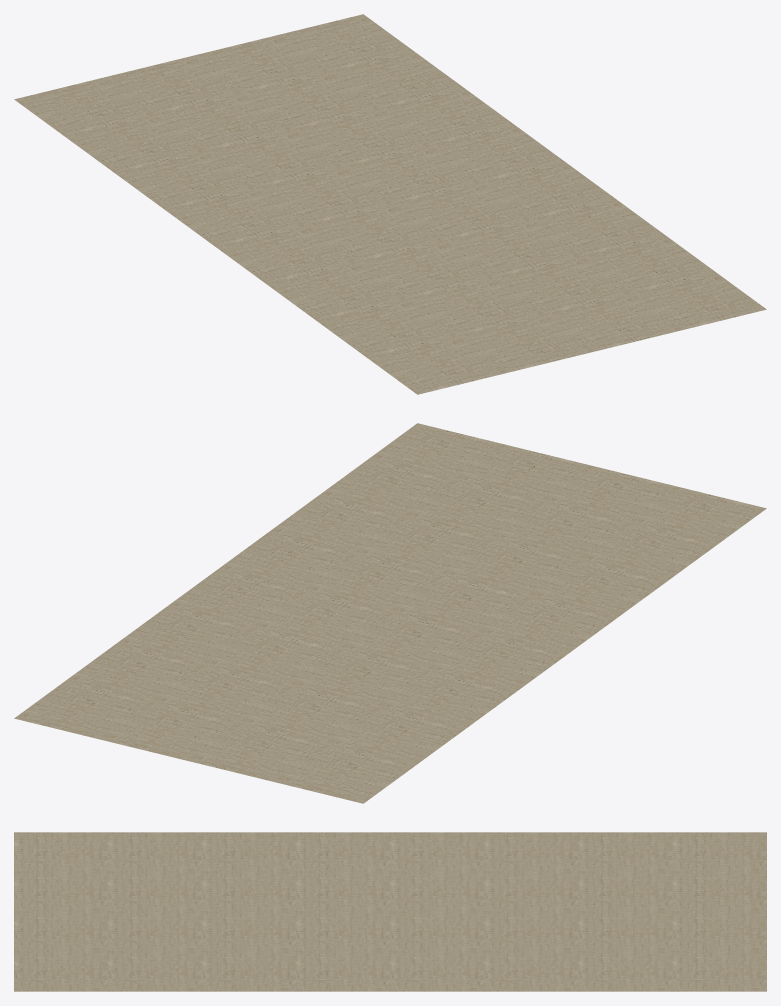
The model's file is Ground.glb.
3 views of the same model, one above another, from view 1: azimuth 30°, elevation 25°; view 2: azimuth 150°, elevation 25°; view 3: azimuth 270°, elevation 25° (orthographic). The views are drawn at different scales.
Parts seen in each view (by area): view 1: piece_of_floor_low (31), piece_of_floor_low (17), piece_of_floor_low (1), piece_of_floor_low (9), piece_of_floor_low (5), piece_of_floor_low (4), piece_of_floor_low (3), piece_of_floor_low (30), piece_of_floor_low (14), piece_of_floor_low (10), piece_of_floor_low (21), piece_of_floor_low (12) (+20 smaller); view 2: piece_of_floor_low, piece_of_floor_low (13), piece_of_floor_low (3), piece_of_floor_low (31), piece_of_floor_low (14), piece_of_floor_low (28), piece_of_floor_low (9), piece_of_floor_low (10), piece_of_floor_low (21), piece_of_floor_low (12), piece_of_floor_low (17), piece_of_floor_low (15) (+20 smaller); view 3: piece_of_floor_low (12), piece_of_floor_low (15), piece_of_floor_low (4), piece_of_floor_low (23), piece_of_floor_low (27), piece_of_floor_low (16), piece_of_floor_low (11), piece_of_floor_low (7), piece_of_floor_low (20), piece_of_floor_low (19), piece_of_floor_low (8), piece_of_floor_low (24) (+20 smaller).
Boxes of the visible parts, bbox=[...] form: piece_of_floor_low (31): bbox=[367, 336, 504, 394]; piece_of_floor_low (17): bbox=[391, 183, 527, 241]; piece_of_floor_low (1): bbox=[189, 35, 325, 93]; piece_of_floor_low (9): bbox=[290, 109, 426, 167]; piece_of_floor_low (5): bbox=[239, 72, 376, 130]; piece_of_floor_low (4): bbox=[327, 51, 463, 109]; piece_of_floor_low (3): bbox=[14, 78, 151, 136]; piece_of_floor_low (30): bbox=[455, 315, 591, 373]; piece_of_floor_low (14): bbox=[253, 167, 389, 225]; piece_of_floor_low (10): bbox=[203, 130, 339, 188]; piece_of_floor_low (21): bbox=[354, 241, 490, 299]; piece_of_floor_low (12): bbox=[427, 125, 564, 182]; piece_of_floor_low: bbox=[14, 681, 151, 739]; piece_of_floor_low (13): bbox=[253, 592, 390, 650]; piece_of_floor_low (3): bbox=[276, 745, 413, 803]; piece_of_floor_low (31): bbox=[629, 487, 766, 545]; piece_of_floor_low (14): bbox=[340, 613, 477, 671]; piece_of_floor_low (28): bbox=[367, 423, 504, 481]; piece_of_floor_low (9): bbox=[203, 629, 339, 687]; piece_of_floor_low (10): bbox=[290, 650, 426, 708]; piece_of_floor_low (21): bbox=[441, 539, 577, 597]; piece_of_floor_low (12): bbox=[165, 571, 302, 628]; piece_of_floor_low (17): bbox=[303, 555, 440, 613]; piece_of_floor_low (15): bbox=[427, 635, 564, 692]; piece_of_floor_low (12): bbox=[390, 951, 484, 991]; piece_of_floor_low (15): bbox=[390, 832, 484, 872]; piece_of_floor_low (4): bbox=[578, 951, 672, 991]; piece_of_floor_low (23): bbox=[202, 951, 296, 991]; piece_of_floor_low (27): bbox=[108, 832, 202, 872]; piece_of_floor_low (16): bbox=[296, 951, 390, 991]; piece_of_floor_low (11): bbox=[484, 832, 578, 872]; piece_of_floor_low (7): bbox=[578, 832, 672, 872]; piece_of_floor_low (20): bbox=[202, 832, 296, 872]; piece_of_floor_low (19): bbox=[296, 832, 390, 872]; piece_of_floor_low (8): bbox=[484, 951, 578, 991]; piece_of_floor_low (24): bbox=[108, 951, 202, 991].
Size of the model in its own units: 139 by 0.0175 by 278.
Materials: 1 (1 with a texture image).
